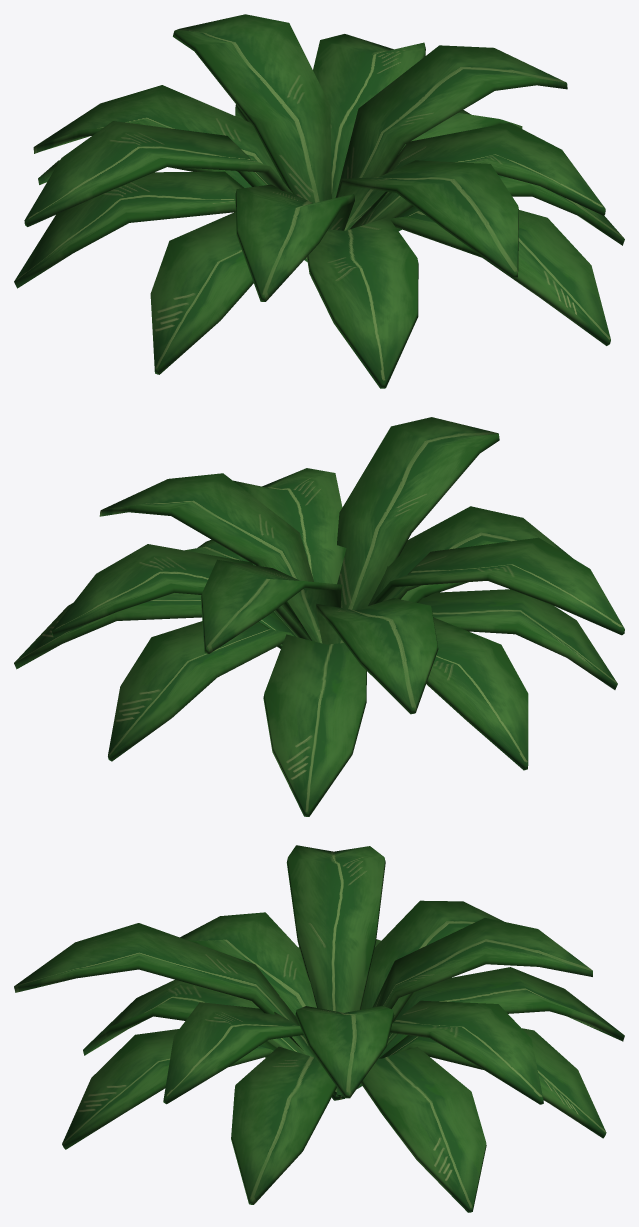
Rendered from BirdsNest1.fbx.
The picture shows the model from 3 angles, top to bottom: view 1: azimuth 30°, elevation 25°; view 2: azimuth 150°, elevation 25°; view 3: azimuth 270°, elevation 25°; orthographic projection. The views are drawn at different scales.
Parts seen in each view (by area): view 1: BirdsNest1; view 2: BirdsNest1; view 3: BirdsNest1.
Boxes of the visible parts, <box> form: BirdsNest1: <box>14,14,624,388</box>; BirdsNest1: <box>14,417,624,816</box>; BirdsNest1: <box>14,845,624,1212</box>.
Size of the model in its own units: 0.9649 by 0.2893 by 0.9946.
